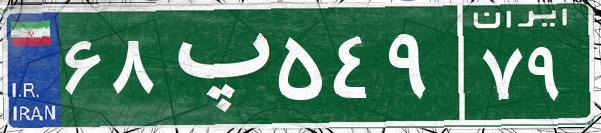4: (330, 28, 385, 110)
5: (273, 28, 330, 110)
6: (57, 26, 110, 107)
7: (475, 38, 525, 113)
8: (110, 28, 158, 105)
9: (385, 28, 445, 110), (525, 38, 570, 115)
پ: (158, 15, 273, 115)
